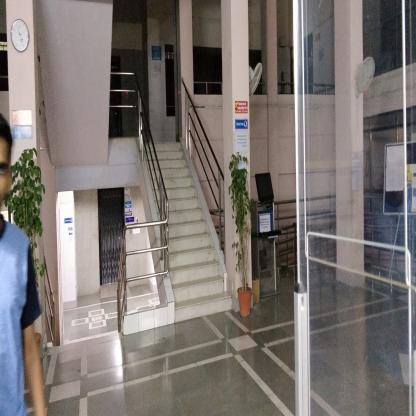stairs: (177, 215, 204, 327)
